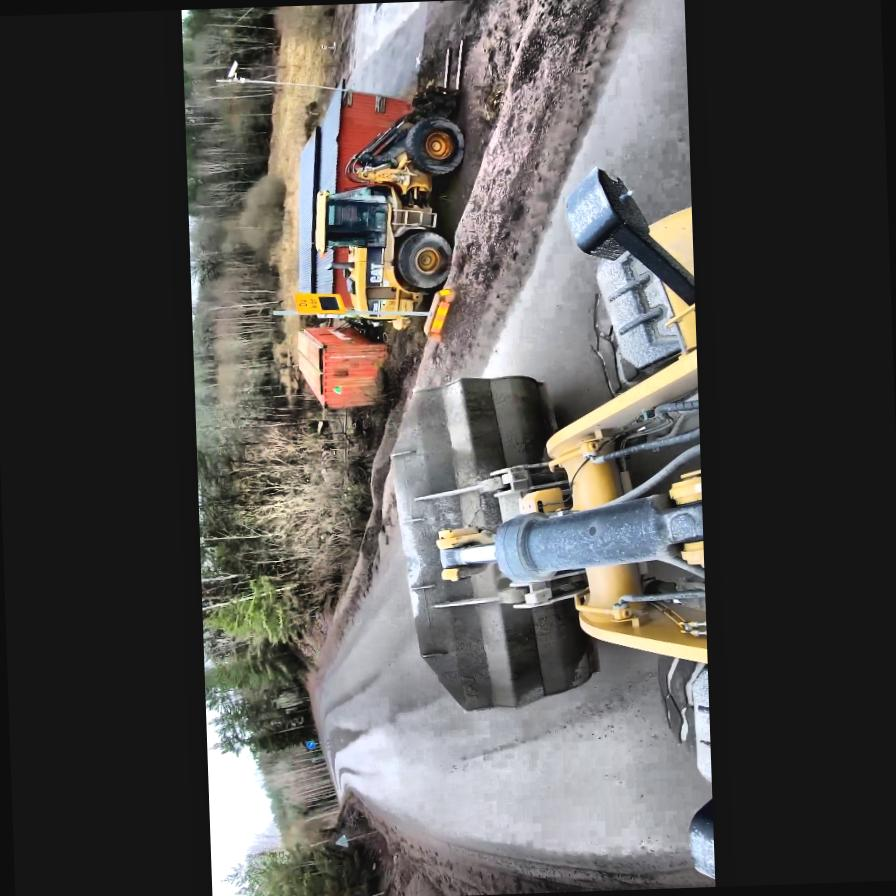anchor: (434, 524, 497, 579)
